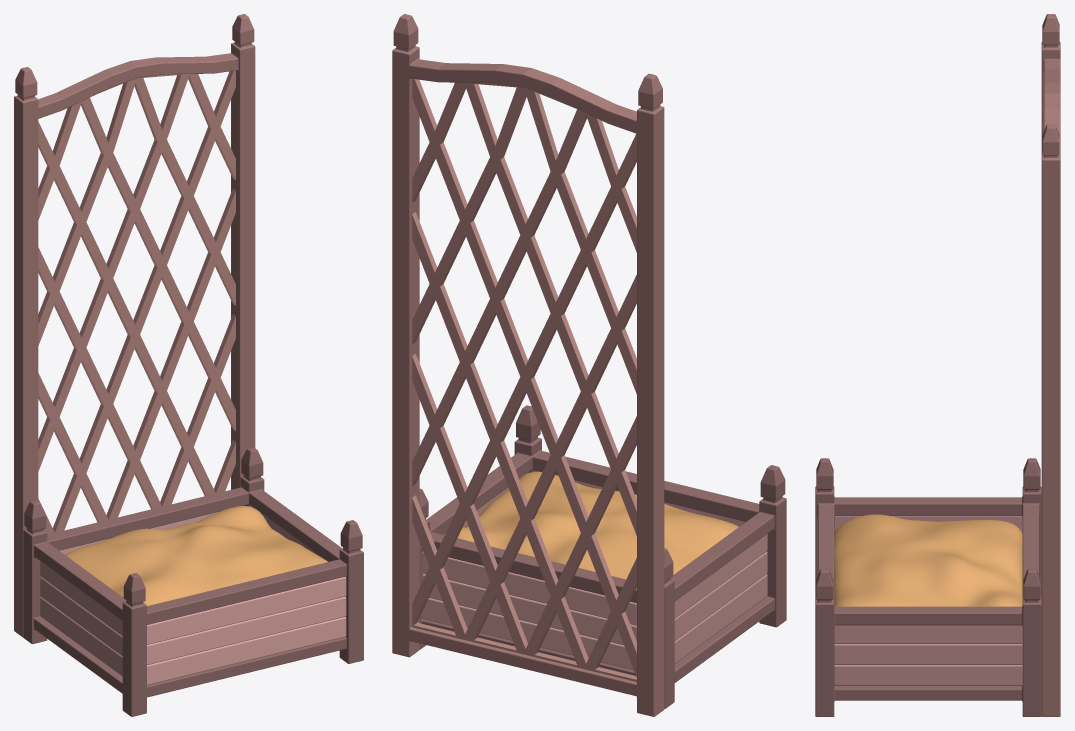
Rendered from upuan.fbx.
The picture shows the model from 3 angles, left to right: view 1: azimuth 30°, elevation 25°; view 2: azimuth 150°, elevation 25°; view 3: azimuth 270°, elevation 25°; orthographic projection. The views are drawn at different scales.
Visible parts, largest first — view 1: Plane.011, Cube.025, Cube.024, Cube.028, Cube.026, Cube.027; view 2: Plane.011, Cube.025, Cube.024, Cube.028, Cube.026, Cube.027; view 3: Cube.024, Cube.028, Cube.025, Cube.027.
Part boxes in pixels (left/top/right/bottom): Plane.011: left=38, top=70, right=235, bottom=534; Cube.025: left=14, top=14, right=255, bottom=637; Cube.024: left=23, top=447, right=363, bottom=716; Cube.028: left=65, top=506, right=327, bottom=605; Cube.026: left=59, top=505, right=346, bottom=685; Cube.027: left=40, top=507, right=321, bottom=676; Plane.011: left=412, top=78, right=636, bottom=681; Cube.025: left=392, top=14, right=664, bottom=716; Cube.024: left=419, top=405, right=786, bottom=709; Cube.028: left=443, top=471, right=738, bottom=579; Cube.026: left=422, top=471, right=745, bottom=670; Cube.027: left=463, top=487, right=767, bottom=663; Cube.024: left=815, top=458, right=1041, bottom=716; Cube.028: left=834, top=514, right=1022, bottom=606; Cube.025: left=1041, top=14, right=1060, bottom=716; Cube.027: left=834, top=516, right=1022, bottom=685.
Bounding box in the file's own units: 64.77 × 150 × 56.73.
